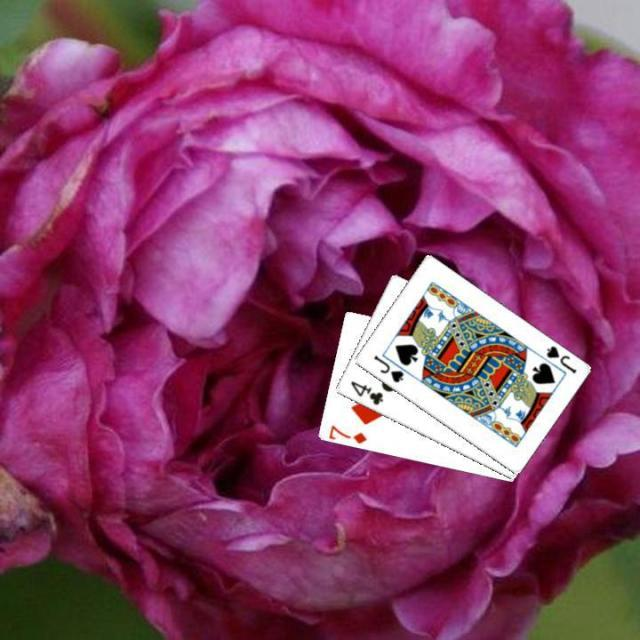4C: (347, 377, 385, 407)
7D: (325, 422, 367, 446)
JS: (369, 351, 405, 385), (541, 341, 577, 375)
